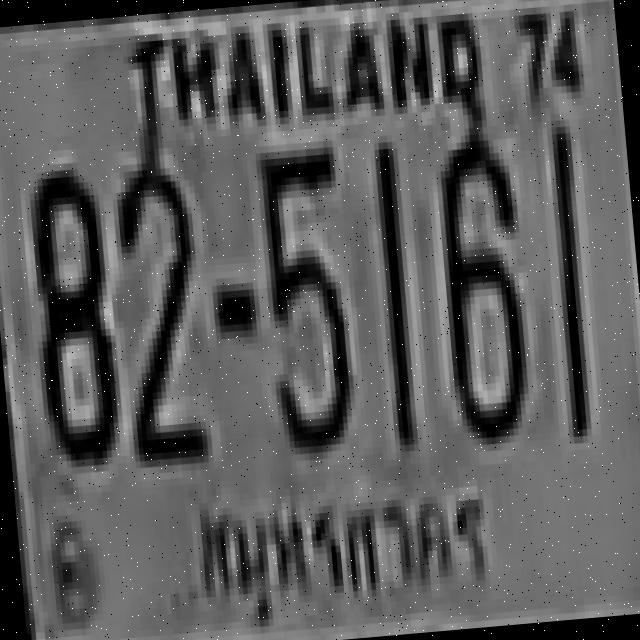1: (348, 120, 432, 470), (536, 112, 608, 461)
2: (106, 150, 228, 500)
5: (242, 132, 375, 478)
6: (413, 123, 545, 456)
8: (8, 147, 138, 500)
SamutPrakan: (170, 456, 535, 640)
